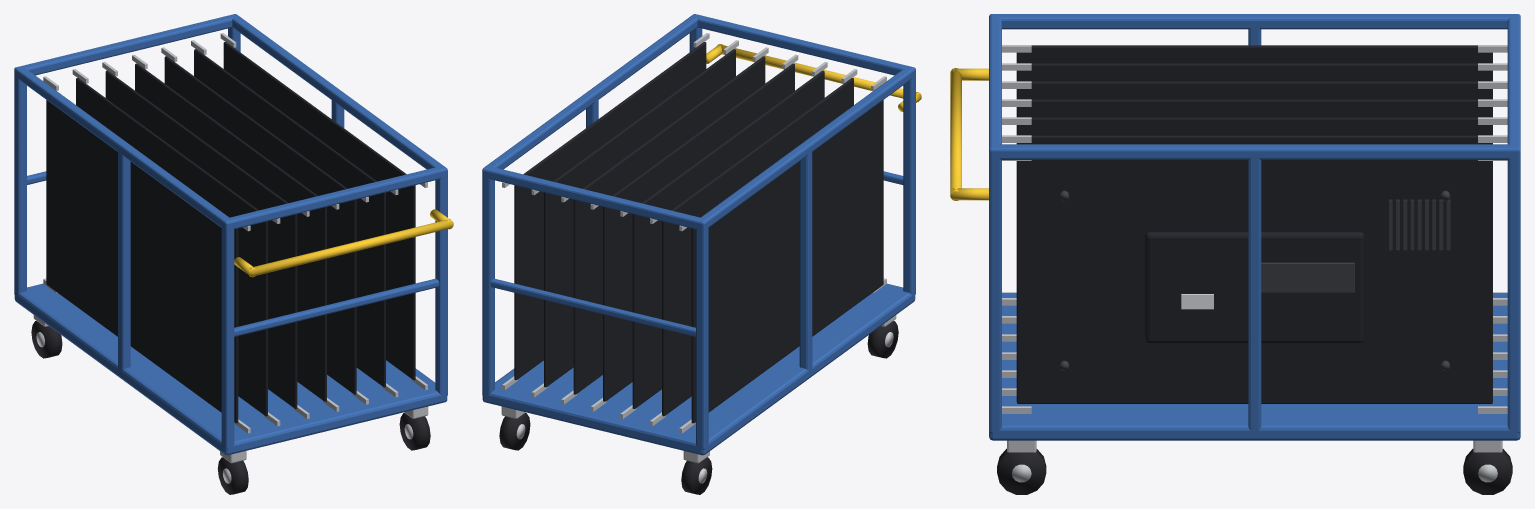
Rendered from trolley.glb.
3 renders of one model, left to right at view 1: azimuth 30°, elevation 25°; view 2: azimuth 150°, elevation 25°; view 3: azimuth 270°, elevation 25°, orthographic. The views are drawn at different scales.
Visible parts, largest first — view 1: Cube; view 2: Cube; view 3: Cube.
Part boxes in pixels (bbox=[...]): Cube: bbox=[14, 14, 453, 494]; Cube: bbox=[482, 14, 921, 494]; Cube: bbox=[950, 14, 1520, 494].
Bounding box in the file's own units: 0.98 × 1.19 × 1.74.
